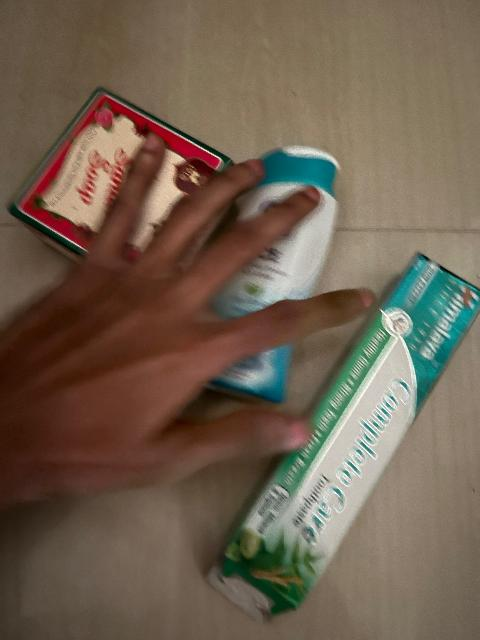hand: (125, 153, 357, 366)
himalaya toothpaste: (245, 340, 401, 614)
mysore sandal soap: (17, 70, 129, 226)
